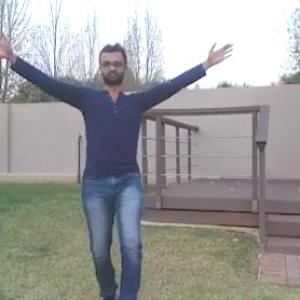takeoff: (0, 27, 256, 299)
